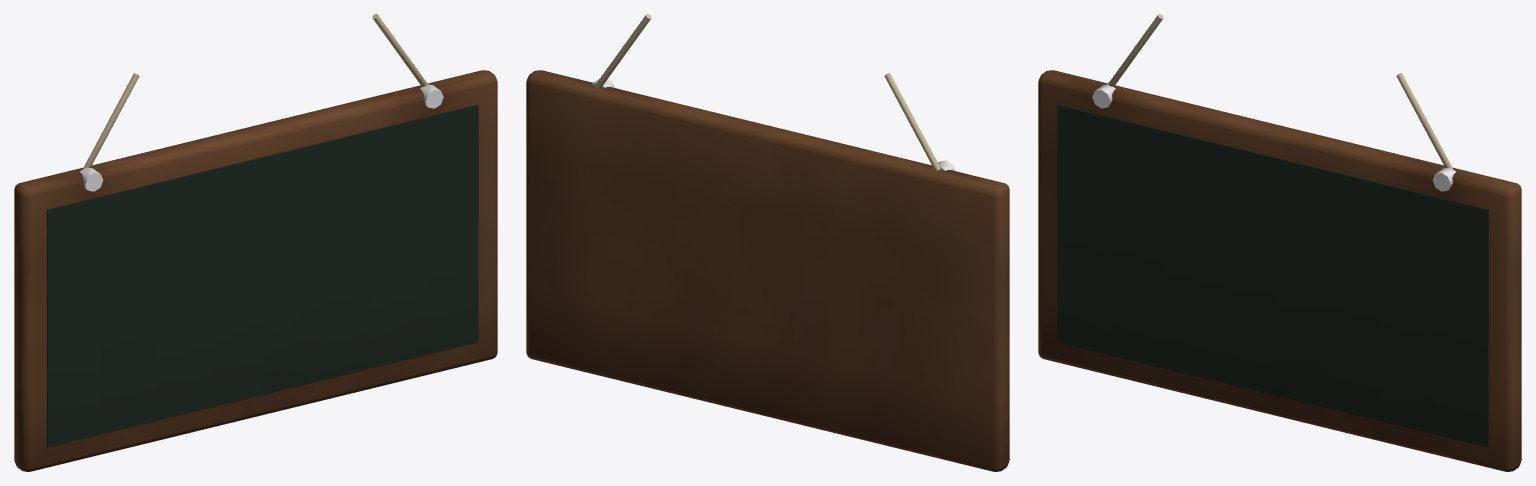
File: fp-sign.gltf
The picture shows the model from 3 angles, left to right: view 1: azimuth 30°, elevation 25°; view 2: azimuth 150°, elevation 25°; view 3: azimuth 330°, elevation 25°; orthographic projection.
Parts seen in each view (by area): view 1: model; view 2: model; view 3: model.
Boxes of the visible parts, bbox=[...] form: model: bbox=[14, 14, 497, 471]; model: bbox=[526, 14, 1009, 471]; model: bbox=[1038, 14, 1521, 471].
Size of the model in its own units: 0.42 by 0.3113 by 0.023.
4 materials, 1 textured.
